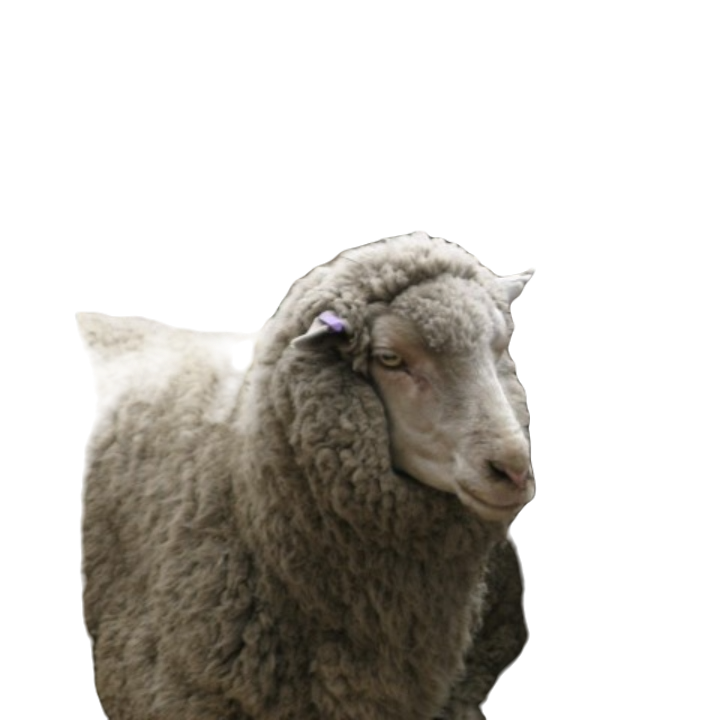Sheep: (74, 225, 548, 719)
